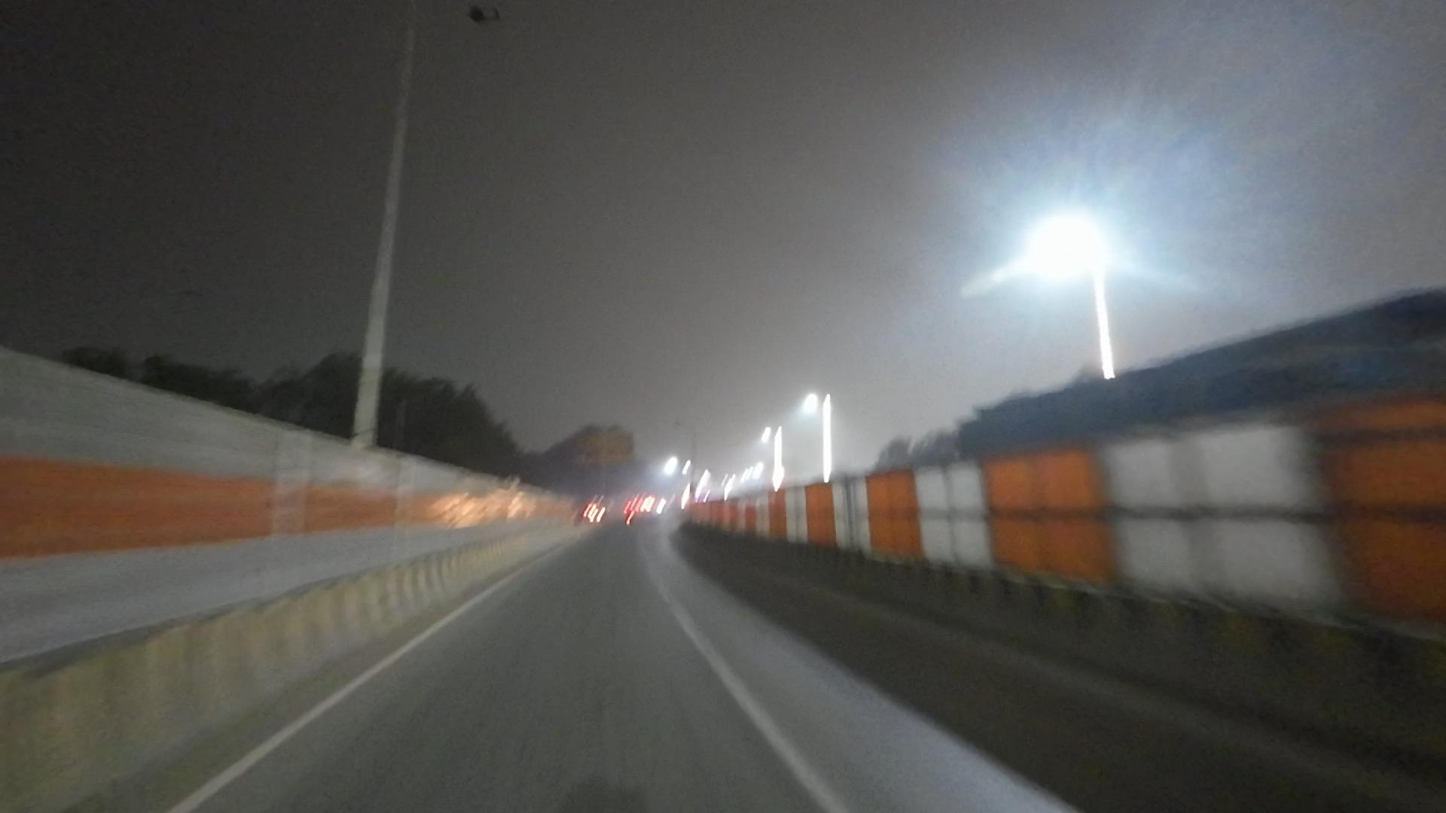streetlight: (449, 2, 513, 30)
